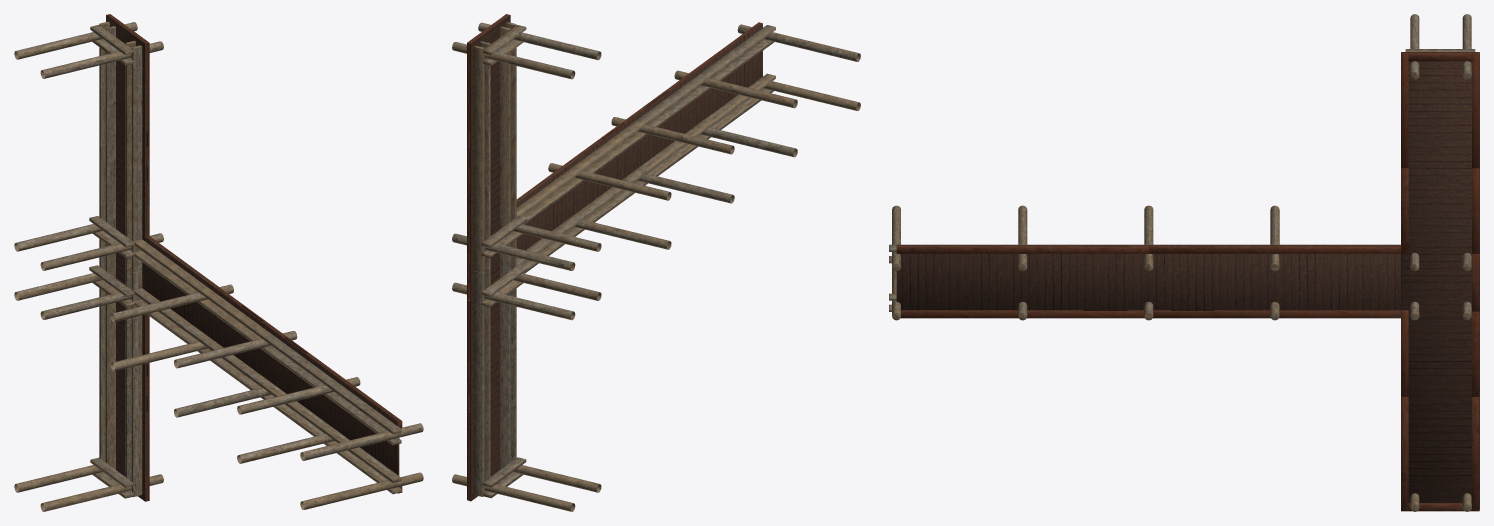
Rendered from cP_Dock02.dae.
3 renders of one model, left to right at view 1: azimuth 30°, elevation 25°; view 2: azimuth 150°, elevation 25°; view 3: azimuth 270°, elevation 25°, orthographic.
Visible parts, largest first — view 1: cP_Dock02.001; view 2: cP_Dock02.001; view 3: cP_Dock02.001.
Boxes of the visible parts, x1,y1,x2,y2 form: cP_Dock02.001: [14, 14, 423, 511]; cP_Dock02.001: [452, 14, 860, 511]; cP_Dock02.001: [889, 14, 1479, 511].
Bounding box in the file's own units: 4.35 × 18.74 × 16.
